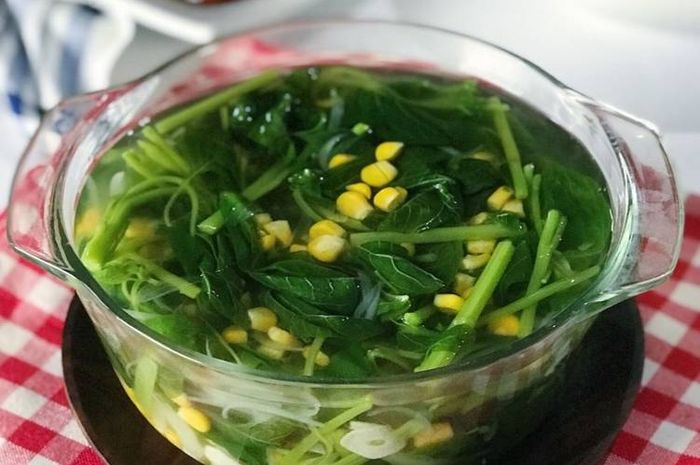Sayur Bayam: (97, 48, 627, 389)
